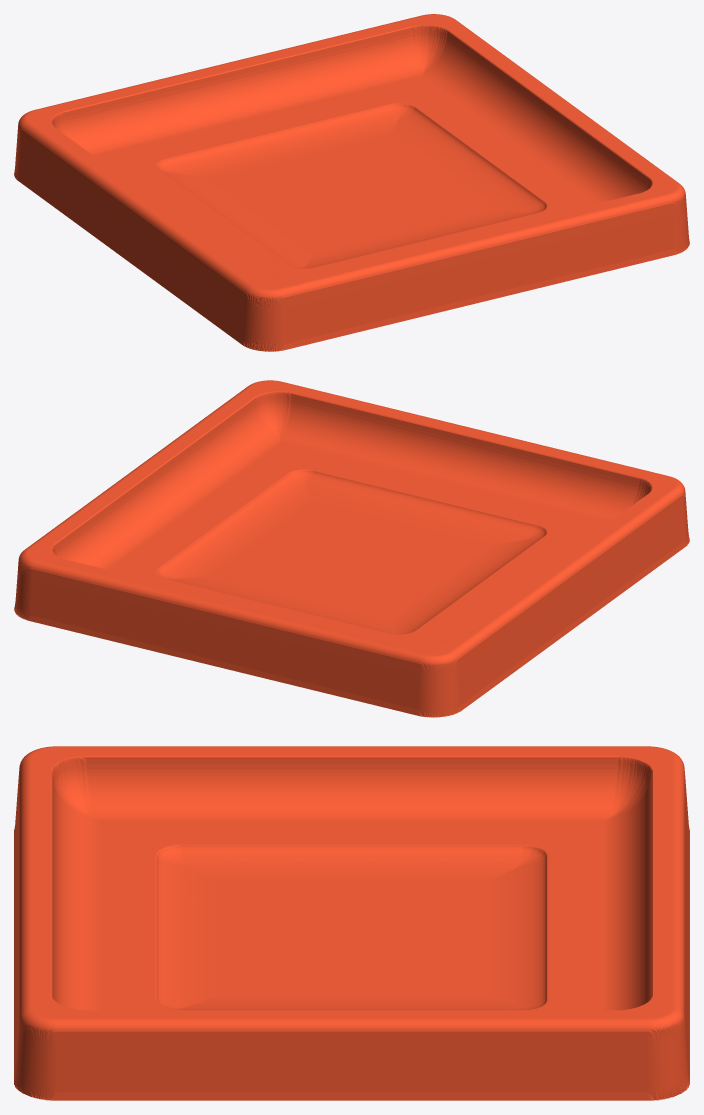
The model's file is mold.glb.
3 views of the same model, one above another, from view 1: azimuth 30°, elevation 25°; view 2: azimuth 150°, elevation 25°; view 3: azimuth 270°, elevation 25° (orthographic). The views are drawn at different scales.
Parts seen in each view (by area): view 1: geometry_0; view 2: geometry_0; view 3: geometry_0.
Boxes of the visible parts, <box> form: geometry_0: <box>14,14,689,351</box>; geometry_0: <box>14,380,689,717</box>; geometry_0: <box>14,746,689,1100</box>.
Size of the model in its own units: 0.1435 by 0.0175 by 0.1435.
